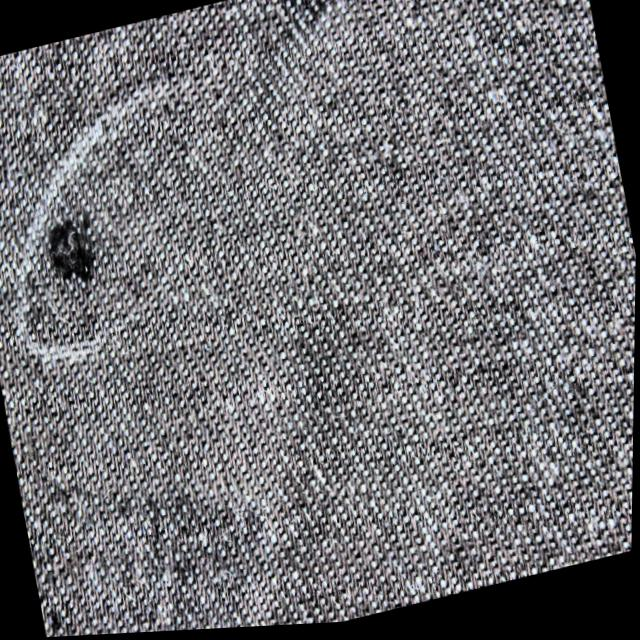Hole: (17, 181, 125, 323)
